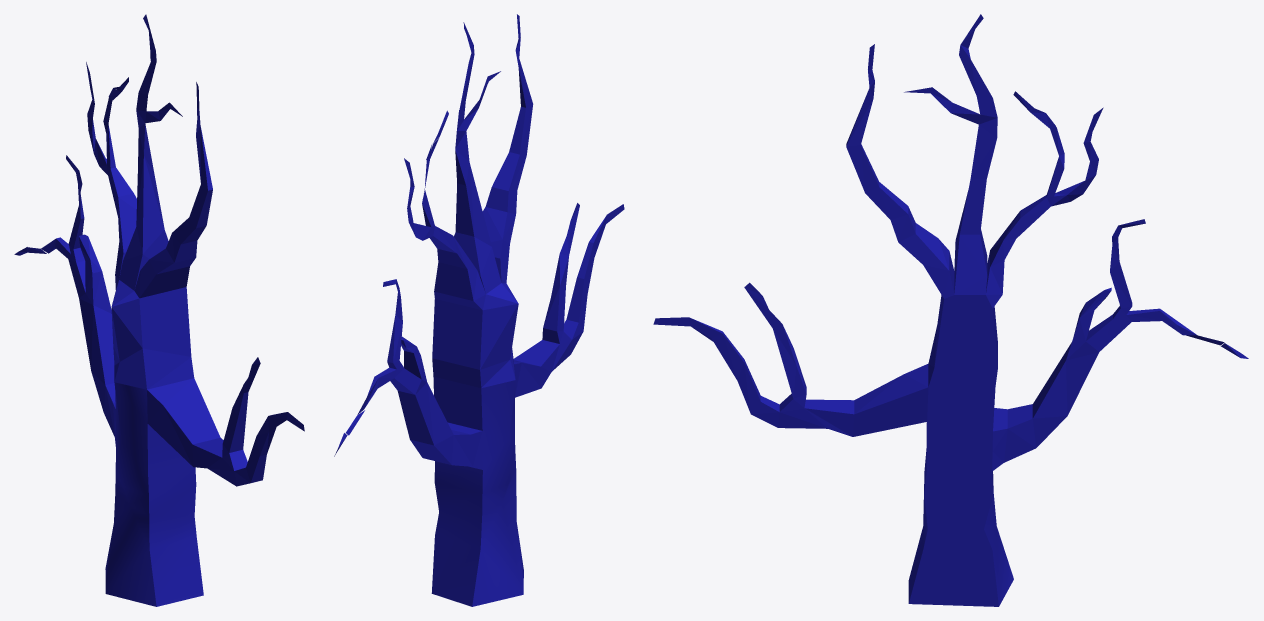
File: 500Arbol.FBX
3 renders of one model, left to right at view 1: azimuth 30°, elevation 25°; view 2: azimuth 150°, elevation 25°; view 3: azimuth 270°, elevation 25°, orthographic. The views are drawn at different scales.
Visible parts, largest first — view 1: Box002; view 2: Box002; view 3: Box002.
Boxes of the visible parts, bbox=[...] form: Box002: bbox=[14, 14, 304, 606]; Box002: bbox=[334, 14, 624, 606]; Box002: bbox=[653, 14, 1248, 606].
Bounding box in the file's own units: 5.52 × 41 × 38.09.
